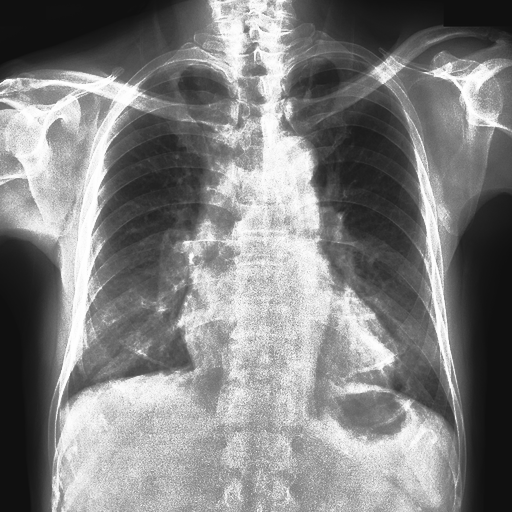Consolidation: (274, 136, 318, 177)
Nodule/Mass: (180, 288, 399, 390)
